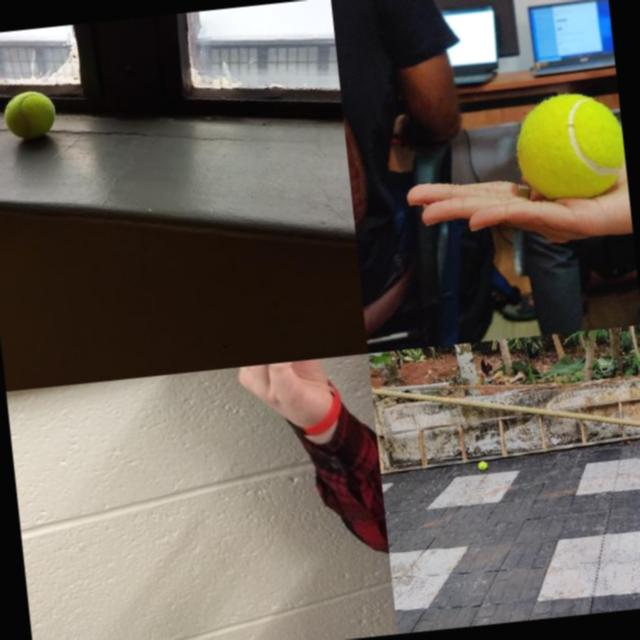Tennis Ball: (513, 89, 628, 199), (0, 88, 58, 142), (478, 460, 488, 470)
